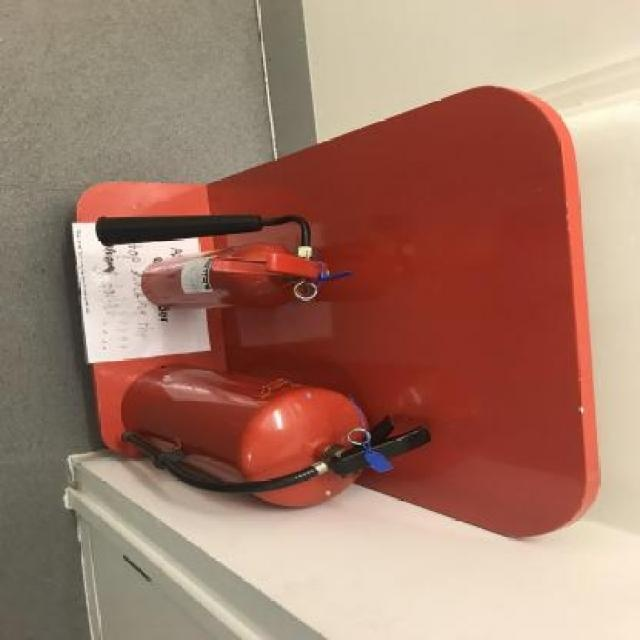fire extinguisher: (118, 362, 435, 506), (94, 213, 358, 310)
